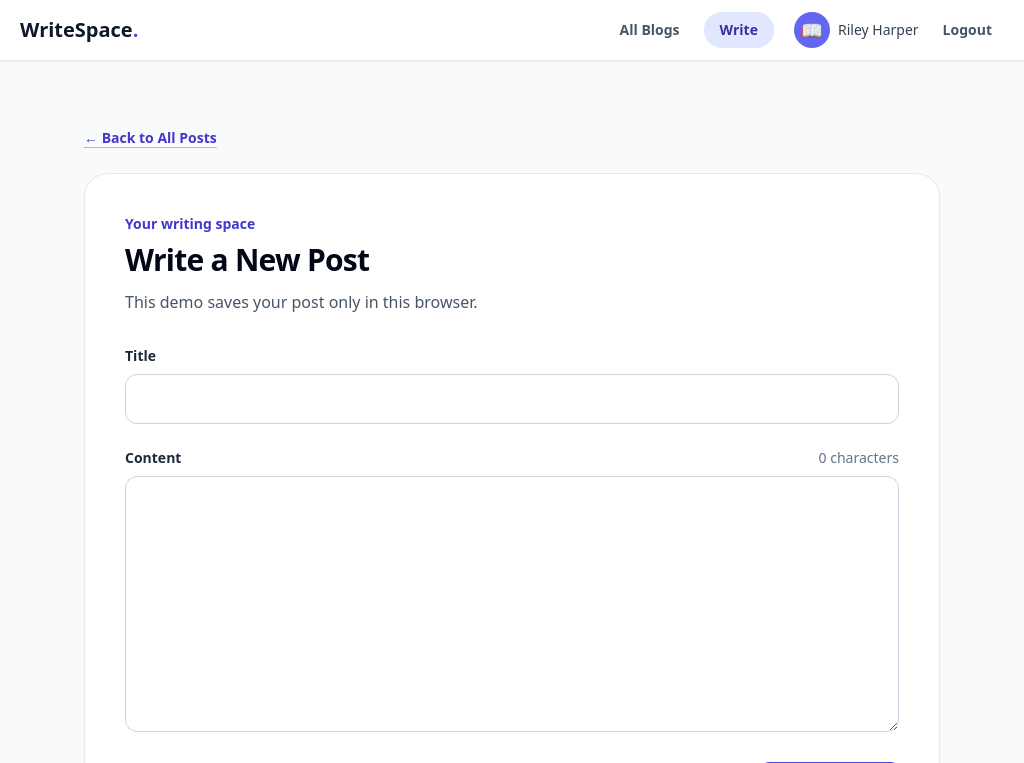
writer blog pages › creates a post, saves author and session metadata, and renders the detail page
This screenshot has width=1024, height=763.
Type "A fresh thought" into the field labelled "Title".
click(512, 399); type("A fresh thought")  # box [125,374,899,424]
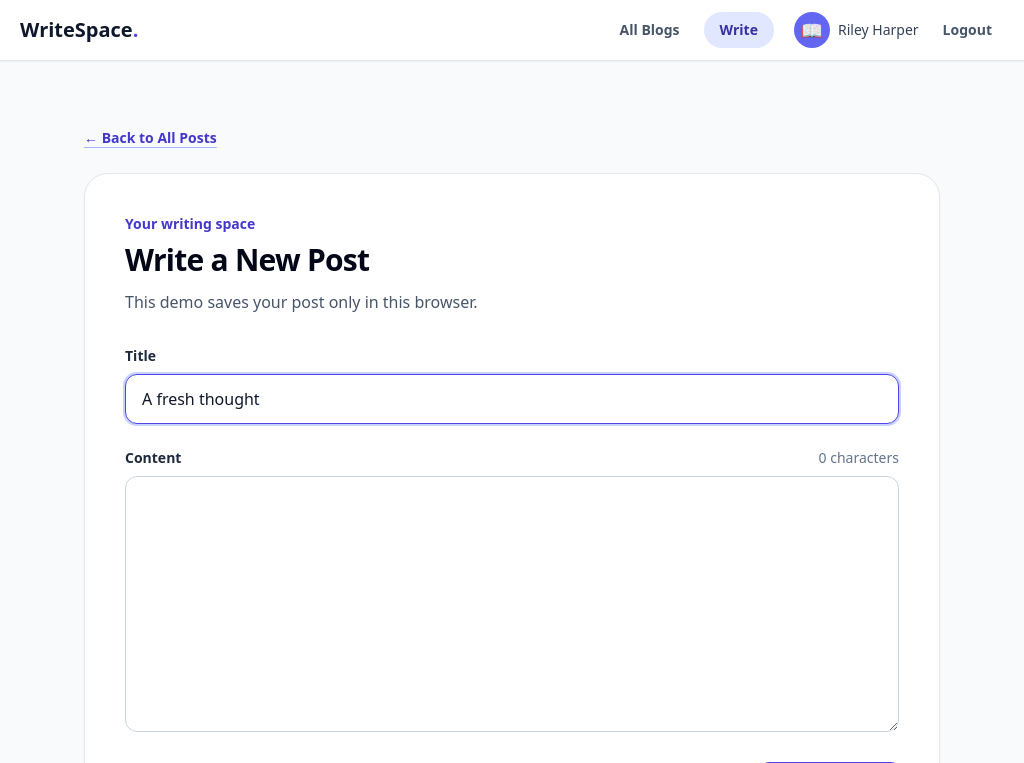
Type "Words worth keeping" into the text box labelled "Content".
click(512, 604); type("Words worth keeping")  # box [125,476,899,732]
(page scrolled)
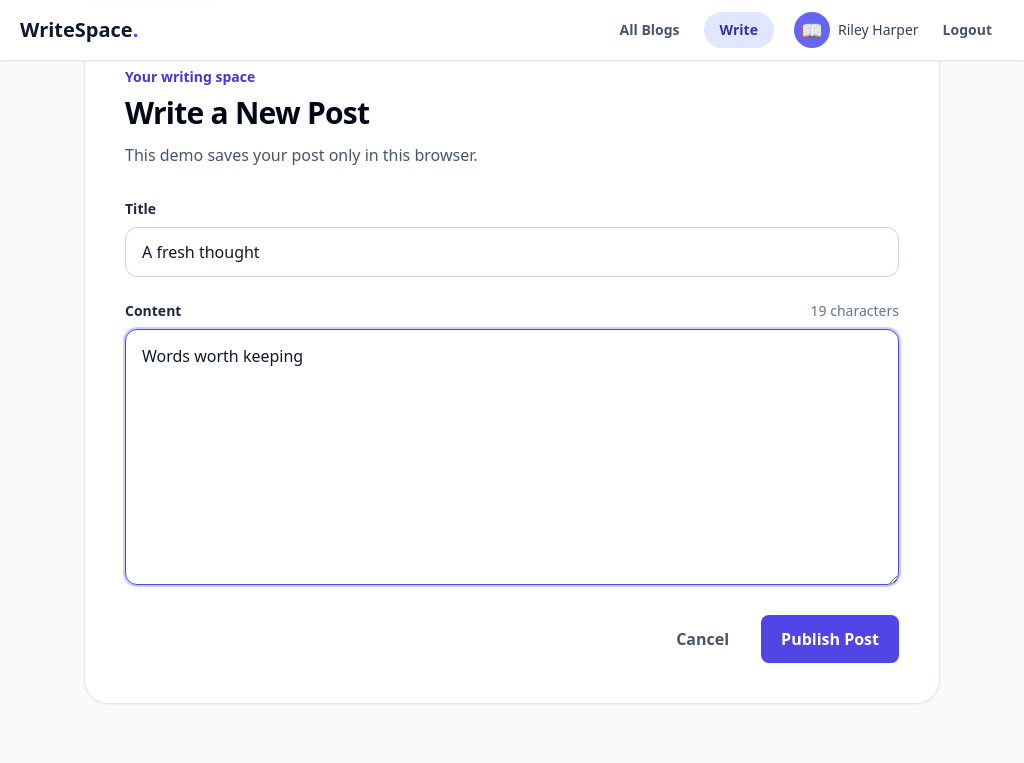
Check: the text "19 characters" is shown, box [811,301,899,321]
Click the button "Publish Post".
click(830, 639)  # box [761,615,899,663]
(page scrolled)
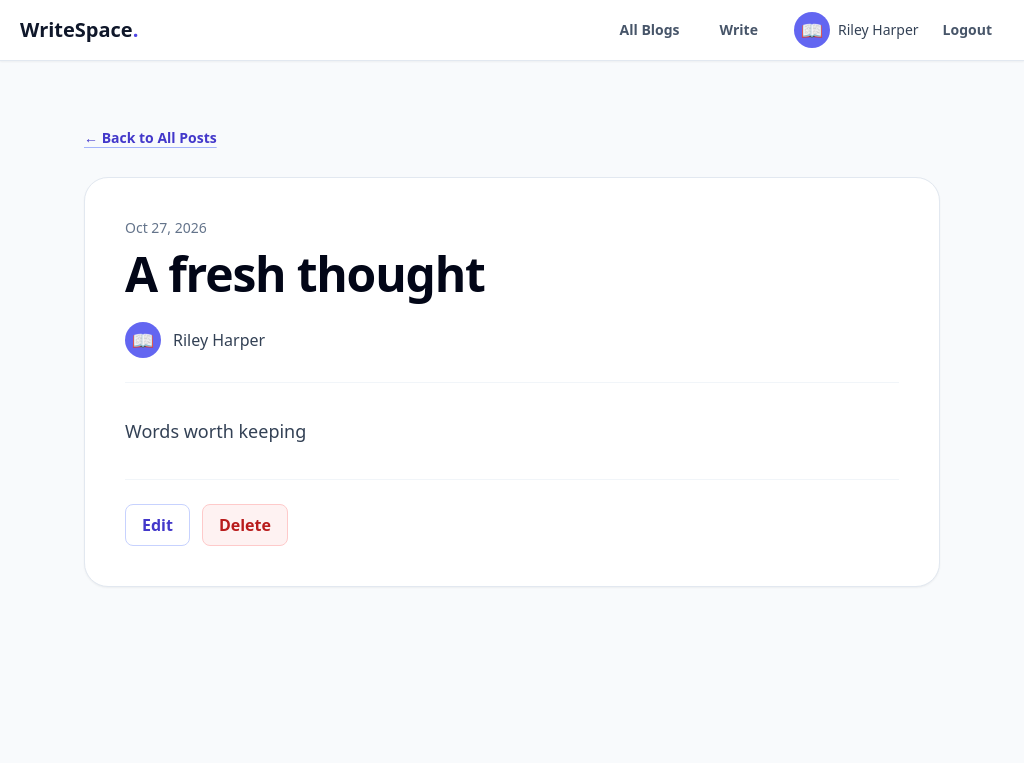
Check: the heading "A fresh thought" is shown, box [125,241,485,306]
